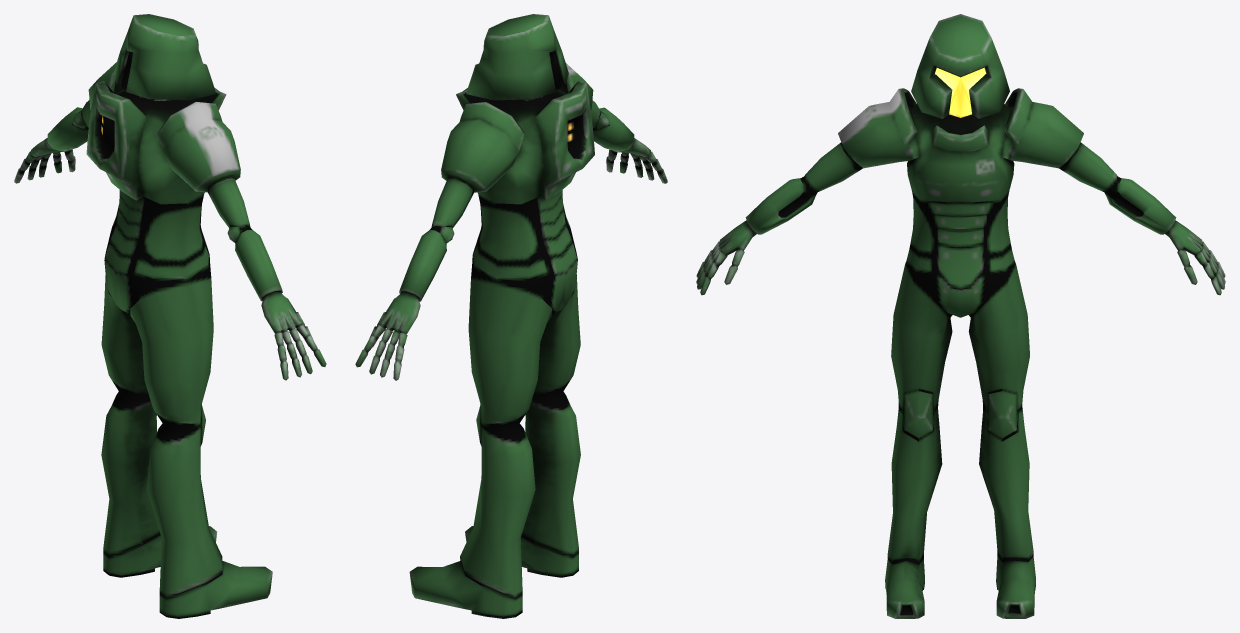
Rendered from Character.fbx.
3 views of the same model, side by side, from view 1: azimuth 30°, elevation 25°; view 2: azimuth 150°, elevation 25°; view 3: azimuth 270°, elevation 25° (orthographic). The views are drawn at different scales.
Visible parts, largest first — view 1: QuakeGuy.001; view 2: QuakeGuy.001; view 3: QuakeGuy.001.
Boxes of the visible parts, x1,y1,x2,y2 form: QuakeGuy.001: (14, 14, 326, 618); QuakeGuy.001: (355, 14, 667, 618); QuakeGuy.001: (696, 14, 1225, 618).
Bounding box in the file's own units: 36.42 × 140 × 120.
